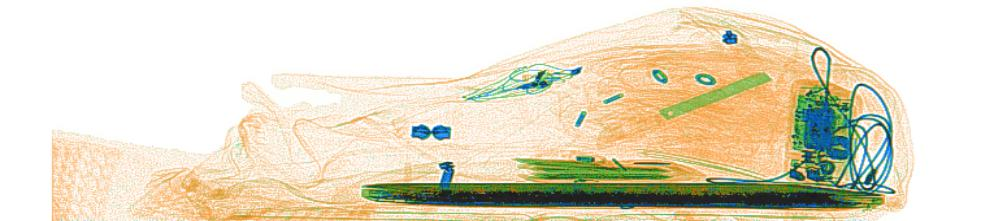knife: (595, 70, 773, 148)
